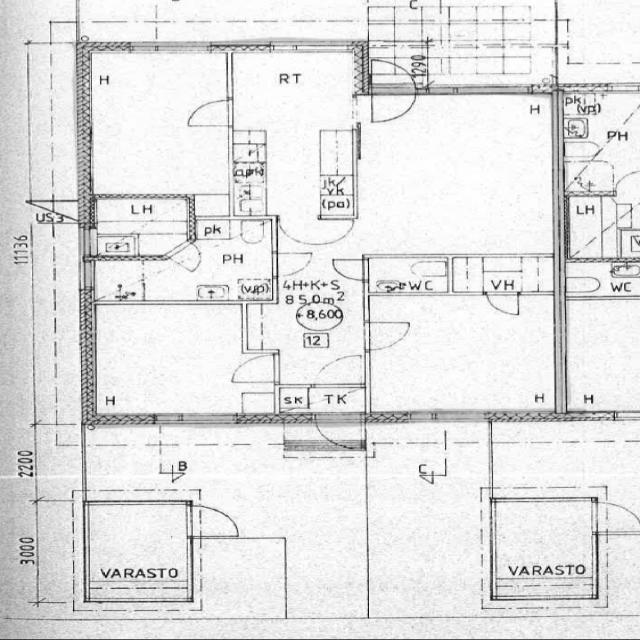door: (187, 502, 243, 538), (313, 353, 367, 388), (230, 350, 282, 386), (368, 88, 418, 124), (182, 96, 236, 129), (313, 416, 363, 448), (592, 500, 640, 532), (363, 320, 414, 350), (313, 216, 358, 247), (271, 250, 315, 279), (484, 291, 522, 317), (330, 258, 370, 282)
window: (493, 494, 598, 505), (221, 50, 238, 101), (79, 258, 97, 290), (80, 225, 97, 258)
zone: (368, 293, 558, 417), (86, 49, 231, 200), (233, 47, 357, 218), (89, 302, 253, 422), (488, 424, 640, 502), (86, 500, 192, 601), (493, 498, 598, 598), (562, 296, 640, 415), (191, 534, 288, 622), (560, 88, 640, 193), (176, 224, 277, 302), (558, 0, 640, 81), (89, 197, 192, 260), (564, 195, 640, 260), (90, 258, 196, 303), (449, 256, 556, 294), (366, 257, 450, 295), (562, 259, 640, 297), (288, 386, 368, 414)
